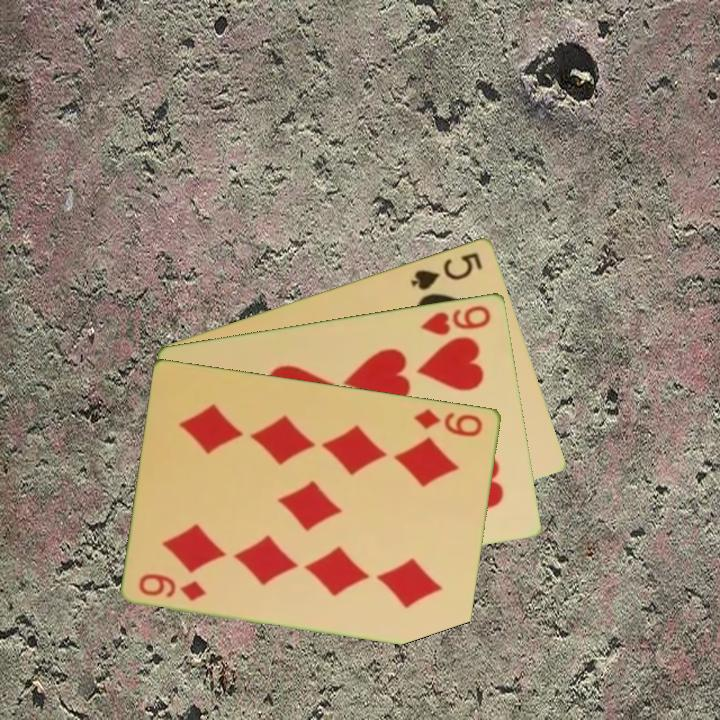5s: (407, 248, 486, 293)
9d: (135, 569, 209, 604), (411, 405, 486, 439)
9h: (417, 301, 494, 338)
